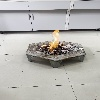fire: (41, 30, 65, 53)
